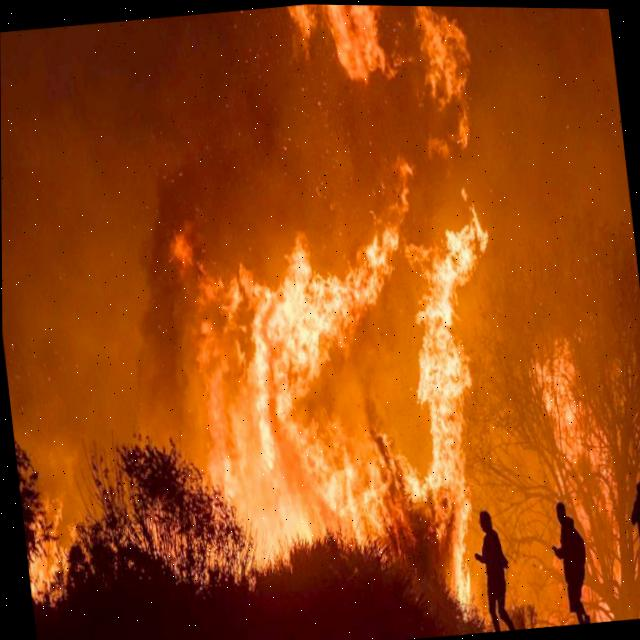fire: (199, 165, 472, 601), (539, 352, 615, 586), (288, 4, 381, 75), (412, 5, 471, 103), (28, 509, 72, 605)
smoke: (0, 18, 197, 452), (475, 6, 640, 342), (168, 15, 316, 226)
